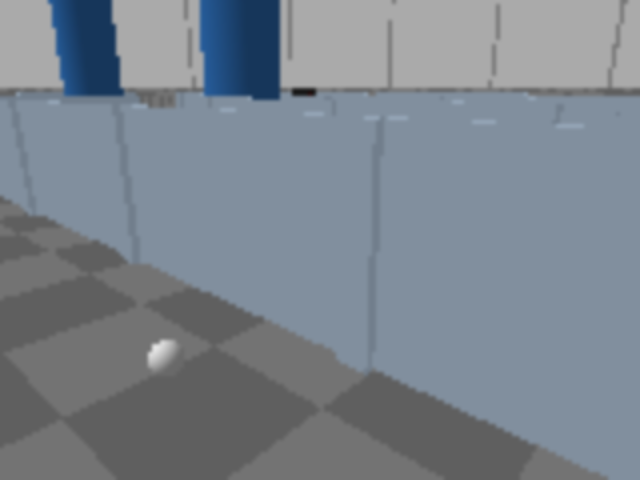puck: (142, 333, 190, 385)
